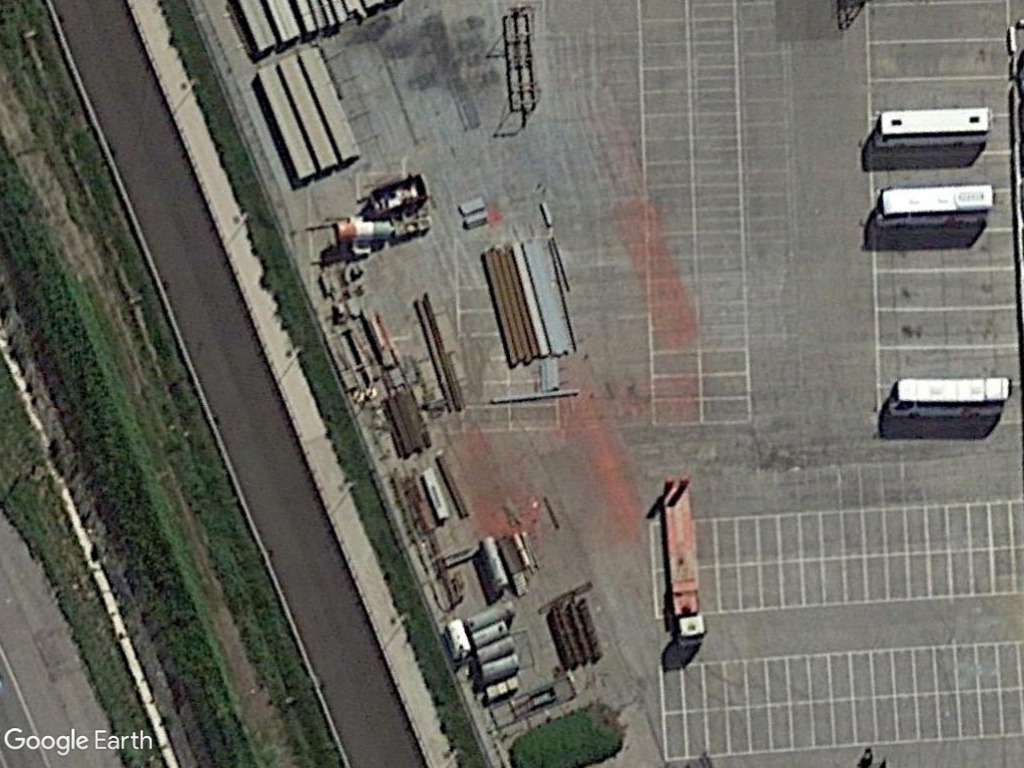bus: (878, 371, 1011, 422), (868, 180, 996, 232), (867, 104, 996, 152)
